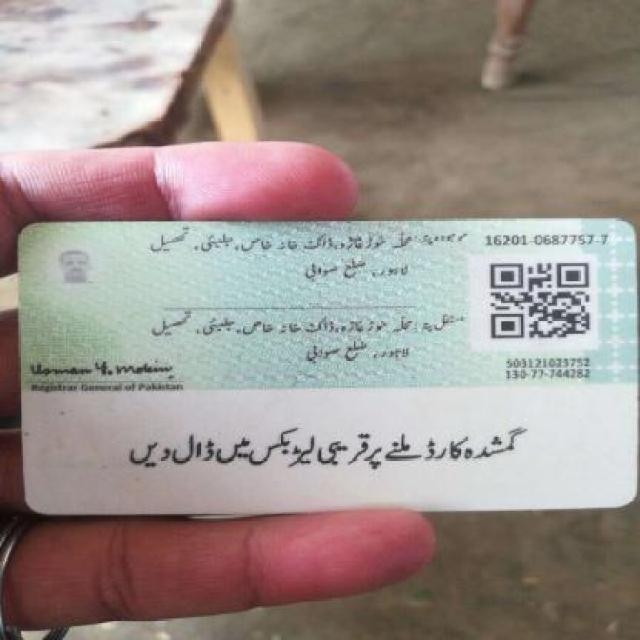Back: (14, 212, 637, 512)
